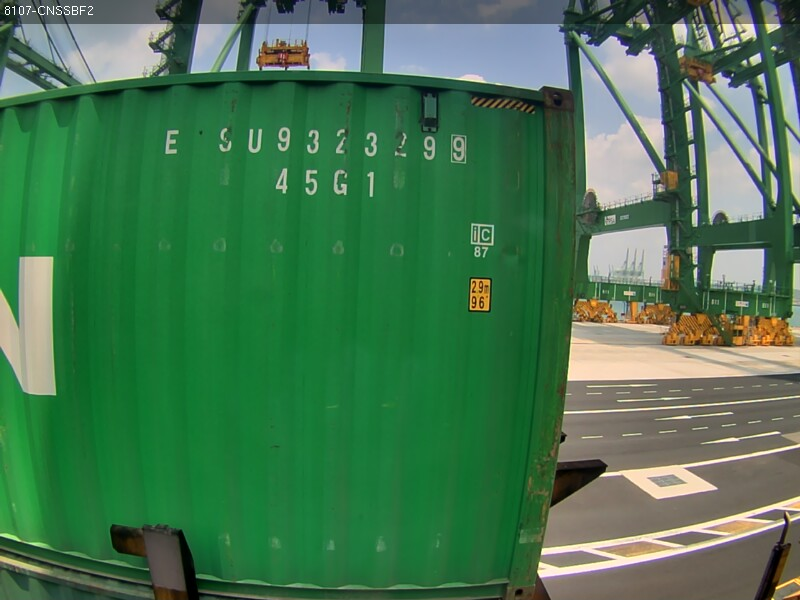container_no_door: (165, 89, 521, 506)
